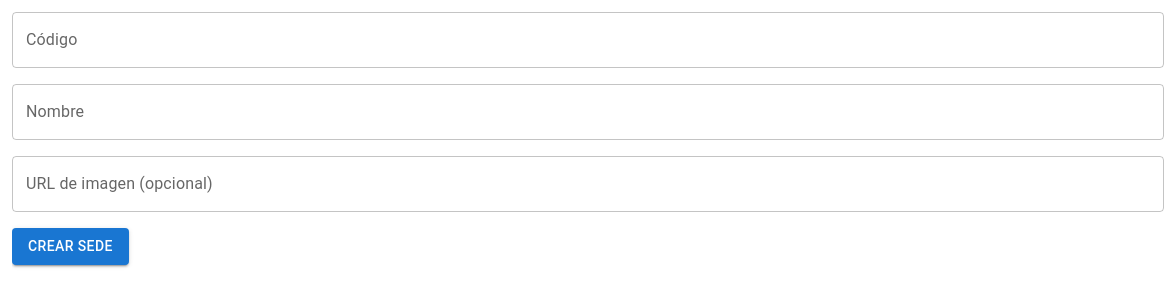
Scenario: LocationForm › validates image URL format
Type "invalid-url" into the field labelled "URL de imagen (opcional)". click: (588, 184)
box: [12, 156, 1164, 212]
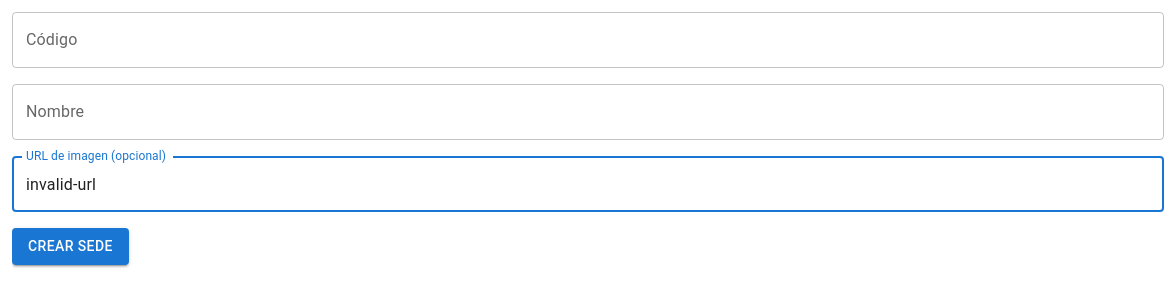
Leave the field labelled "URL de imagen (opcional)", box [12, 156, 1164, 212]
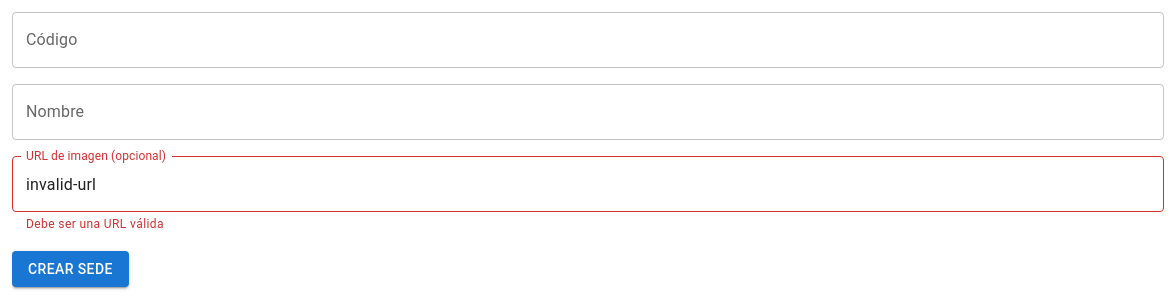
expect the text "Debe ser una URL válida" is shown: met, box [26, 217, 164, 231]
